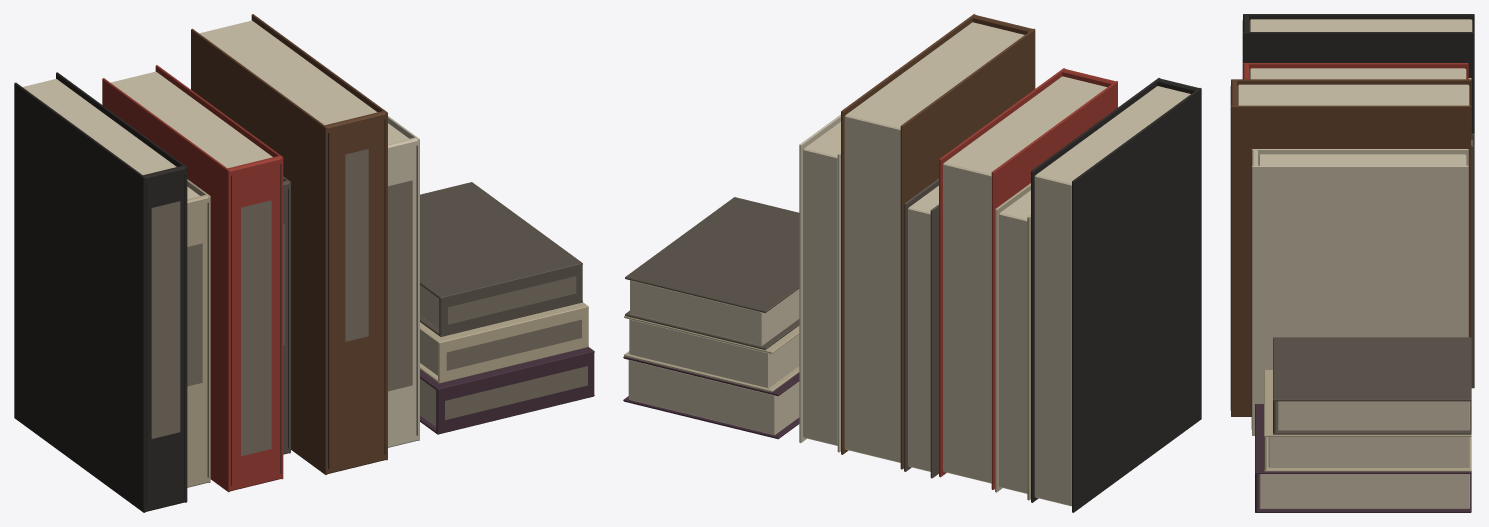
The model's file is bedroom-book-row-d64bd9211ec2.glb.
The picture shows the model from 3 angles, left to right: view 1: azimuth 30°, elevation 25°; view 2: azimuth 150°, elevation 25°; view 3: azimuth 270°, elevation 25°; orthographic projection. The views are drawn at different scales.
Visible parts, largest first — view 1: speaker-cloth, wood-walnut-dark, cover-print, accent-warm, paper, fabric, enamel-beige, cloth-plum, cloth-cream; view 2: paper, speaker-cloth, fabric, wood-walnut-dark, accent-warm, enamel-beige, cloth-cream, cloth-plum; view 3: cloth-cream, paper, wood-walnut-dark, fabric, speaker-cloth, enamel-beige, cloth-plum, accent-warm.
Part boxes in pixels (bbox=[...]): speaker-cloth: bbox=[14, 72, 417, 512]; wood-walnut-dark: bbox=[191, 14, 387, 474]; cover-print: bbox=[151, 149, 587, 456]; accent-warm: bbox=[102, 65, 283, 492]; paper: bbox=[22, 20, 439, 426]; fabric: bbox=[283, 176, 582, 454]; enamel-beige: bbox=[187, 179, 588, 487]; cloth-plum: bbox=[420, 347, 594, 434]; cloth-cream: bbox=[388, 116, 419, 447]; paper: bbox=[628, 22, 1190, 506]; speaker-cloth: bbox=[1031, 78, 1201, 512]; fabric: bbox=[625, 178, 938, 478]; wood-walnut-dark: bbox=[841, 14, 1035, 469]; accent-warm: bbox=[939, 68, 1117, 489]; enamel-beige: bbox=[624, 183, 1030, 500]; cloth-cream: bbox=[799, 114, 840, 452]; cloth-plum: bbox=[623, 356, 799, 439]; cloth-cream: bbox=[1252, 149, 1468, 435]; paper: bbox=[1237, 19, 1472, 508]; wood-walnut-dark: bbox=[1231, 79, 1471, 416]; fabric: bbox=[1273, 133, 1474, 434]; speaker-cloth: bbox=[1230, 14, 1474, 429]; enamel-beige: bbox=[1264, 78, 1471, 471]; cloth-plum: bbox=[1255, 404, 1471, 512]; accent-warm: bbox=[1243, 63, 1468, 79].
Bounding box in the file's own units: 0.314 × 0.228 × 0.1623.
